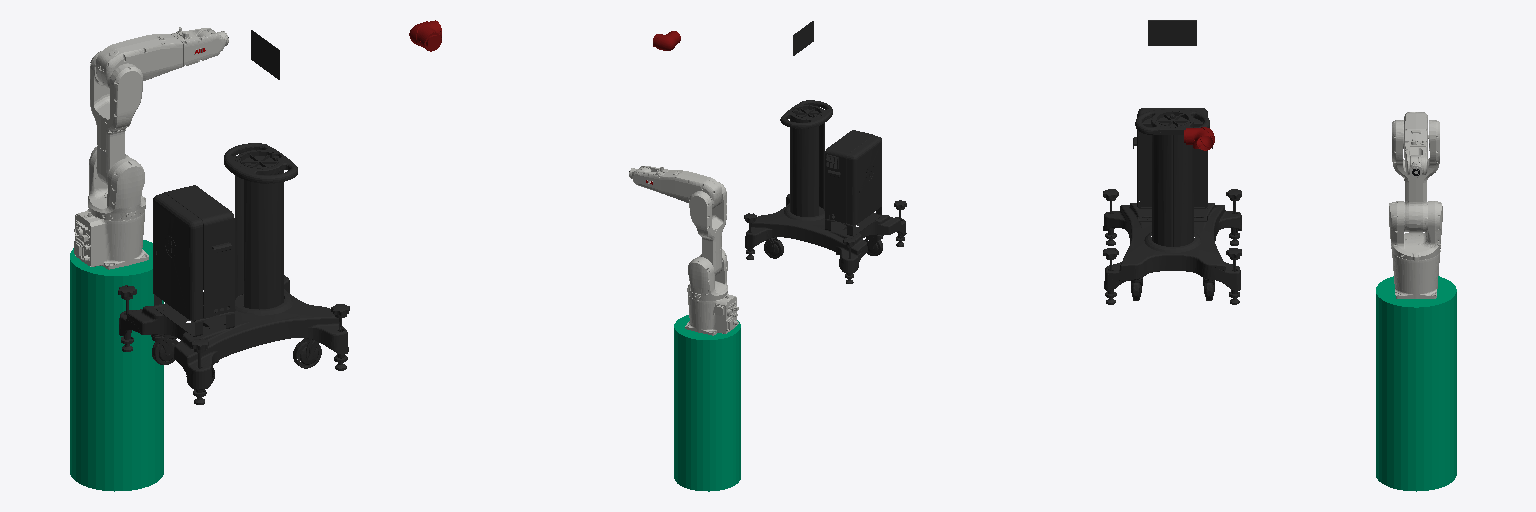
URDF robot description (combined):
<?xml version="1.0" encoding="utf-8"?>
<!-- =================================================================================== -->
<!-- |    This document was autogenerated by xacro from ur5_robot.urdf.xacro           | -->
<!-- |    EDITING THIS FILE BY HAND IS NOT RECOMMENDED                                 | -->
<!-- =================================================================================== -->
<robot name="combined">
  <!--robots pose-->
  <link name="world"/>

  <joint name="sawyer_pose" type="fixed">
    <origin rpy="0 0 0" xyz="0. 0. 0.93"/><!--sawyer base-->
    <parent link="world"/>
    <child link="sawyer_pedestal"/>
  </joint>

  <joint name="abb_pose" type="fixed">
    <parent link="world"/>
    <child link="abb_pedestal"/>
    <origin rpy="0.0 0.0 0.0" xyz="0 1.2 0.0"/><!--abb pedestal-->
  </joint>


  

  <material name="black">
    <color rgba="0 0 0 1"/>
  </material>
  <material name="darkgray">
    <color rgba=".2 .2 .2 1"/>
  </material>
  <material name="darkred">
    <color rgba=".5 .1 .1 1"/>
  </material>
  <material name="sawyer_red">
    <color rgba=".5 .1 .1 1"/>
  </material>
  <material name="sawyer_gray">
    <color rgba="0.75294 0.75294 0.75294 1"/>
  </material>
  <link name="sawyer_pedestal"/>
  <link name="torso">
    <visual>
      <origin rpy="0 0 0" xyz="0 0 0"/>
      <geometry>
        <box size="0.001 0.001 0.001"/>
      </geometry>
      <material name="darkgray">
        <color rgba=".2 .2 .2 1"/>
      </material>
    </visual>
    <inertial>
      <origin rpy="0 0 0" xyz="0.000000 0.000000 0.000000"/>
      <mass value="0.0001"/>
      <inertia ixx="1e-08" ixy="0" ixz="0" iyy="1e-08" iyz="0" izz="1e-08"/>
    </inertial>
  </link>
  <link name="pedestal">
    <visual>
      <origin rpy="1.57079632679 0 -1.57079632679" xyz="0.26 0.345 -0.91488"/>
      <geometry>
        <mesh filename="model://sawyer/meshes/sawyer_pv/pedestal.DAE"/>
      </geometry>
      <material name="darkgray"/>
    </visual>
 <!--    <collision>
      <origin rpy="0 0 0" xyz="-0.02 0 -0.29"/>
      <geometry>
        <cylinder length="0.62" radius="0.18"/>
      </geometry>
    </collision> -->
    <inertial>
      <origin rpy="0 0 0" xyz="0 0 -0.5"/>
      <mass value="60.86397744"/>
      <inertia ixx="5.0635929" ixy="0.00103417" ixz="0.80199628" iyy="6.08689388" iyz="0.00105311" izz="4.96191932"/>
    </inertial>
  </link>
  <link name="controller_box">
   <!--  <collision>
      <origin rpy="0 0 0" xyz="-0.325 0 -0.38"/>
      <geometry>
        <box size="0.22 0.4 0.53"/>
      </geometry>
    </collision> -->
  </link>
  <joint name="controller_box_fixed" type="fixed">
    <origin rpy="0 0 0" xyz="0.0 0.0 0.0"/>
    <parent link="sawyer_pedestal"/>
    <child link="controller_box"/>
  </joint>
  <link name="pedestal_feet">
    <collision>
      <origin rpy="0 0 0" xyz="-0.1225 0 -0.758"/>
      <geometry>
        <box size="0.77 0.7 0.31"/>
      </geometry>
    </collision>
  </link>
  <joint name="pedestal_feet_fixed" type="fixed">
    <origin rpy="0 0 0" xyz="0.0 0.0 0.0"/>
    <parent link="sawyer_pedestal"/>
    <child link="pedestal_feet"/>
  </joint>
  <joint name="pedestal_fixed" type="fixed">
    <origin rpy="0 0 0" xyz="0.0 0.0 0.0"/>
    <parent link="sawyer_pedestal"/>
    <child link="pedestal"/>
  </joint>
  <joint name="right_arm_mount" type="fixed">
    <origin rpy="0 0 0" xyz="0.0 0.0 0.0"/>
    <parent link="sawyer_pedestal"/>
    <child link="right_arm_base_link"/>
  </joint>
  <joint name="torso_t0" type="fixed">
    <origin rpy="0 0 0" xyz="0 0 0"/>
    <parent link="sawyer_pedestal"/>
    <child link="torso"/>
  </joint>
  <link name="right_arm_base_link">
    <inertial>
      <origin rpy="0 0 0" xyz="-0.0006241 -2.8025E-05 0.065404"/>
      <mass value="2.0687"/>
      <inertia ixx="0.0067599" ixy="-4.2024E-05" ixz="-6.1904E-07" iyy="0.0067877" iyz="1.5888E-05" izz="0.0074031"/>
    </inertial>
    <visual>
      <origin rpy="0 0 0" xyz="0 0 0"/>
      <geometry>
        <mesh filename="model://sawyer/meshes/sawyer_pv/base.DAE"/>
      </geometry>
      <material name="sawyer_red"/>
    </visual>
    <!-- <collision>
      <origin rpy="0 0 0" xyz="0 0 0.12"/>
      <geometry>
        <cylinder length="0.24" radius="0.08"/>
      </geometry>
    </collision> -->
  </link>
  <link name="right_l0">
    <inertial>
      <origin rpy="0 0 0" xyz="0.024366 0.010969 0.14363"/>
      <mass value="5.3213"/>
      <inertia ixx="0.053314" ixy="0.0047093" ixz="0.011734" iyy="0.057902" iyz="0.0080179" izz="0.023659"/>
    </inertial>
    <visual>
      <origin rpy="0 0 0" xyz="0 0 0"/>
      <geometry>
        <mesh filename="model://sawyer/meshes/sawyer_mp3/l0.DAE"/>
      </geometry>
      <material name="sawyer_red"/>
    </visual>
    <collision>
      <origin rpy="0 0 0" xyz="0.08 0 0.23"/>
      <geometry>
        <sphere radius="0.07"/>
      </geometry>
    </collision>
  </link>
  <joint name="right_j0" type="revolute">
    <origin rpy="0 0 0" xyz="0 0 0.08"/>
    <parent link="right_arm_base_link"/>
    <child link="right_l0"/>
    <axis xyz="0 0 1"/>
    <limit effort="80.0" lower="-3.0503" upper="3.0503" velocity="1.74"/>
  </joint>
  <link name="head">
    <inertial>
      <origin rpy="0 0 0" xyz="0.0053207 -2.6549E-05 0.1021"/>
      <mass value="1.5795"/>
      <inertia ixx="0.011833" ixy="-4.4669E-06" ixz="4.9425E-05" iyy="0.0082709" iyz="4.2124E-07" izz="0.0049661"/>
    </inertial>
    <visual>
      <origin rpy="0 0 0" xyz="0 0 0"/>
      <geometry>
        <mesh filename="model://sawyer/meshes/sawyer_pv/head.DAE"/>
      </geometry>
      <material name="sawyer_red"/>
    </visual>
    <collision>
      <origin rpy="0 0 0" xyz="0 0 0.08"/>
      <geometry>
        <sphere radius="0.18"/>
      </geometry>
    </collision>
  </link>
  <joint name="head_pan" type="revolute">
    <origin rpy="0 0 0" xyz="0 0 0.2965"/>
    <parent link="right_l0"/>
    <child link="head"/>
    <axis xyz="0 0 1"/>
    <limit effort="8" lower="-5.0952" upper="0.9064" velocity="1.8"/>
  </joint>
  <link name="right_torso_itb">
    <inertial>
      <origin rpy="0 0 0" xyz="0.000000 0.000000 0.000000"/>
      <mass value="0.0001"/>
      <inertia ixx="1e-08" ixy="0" ixz="0" iyy="1e-08" iyz="0" izz="1e-08"/>
    </inertial>
  </link>
  <joint name="right_torso_itb" type="fixed">
    <origin rpy="0 -1.57079632679 0" xyz="-.055 0 .22"/>
    <parent link="right_l0"/>
    <child link="right_torso_itb"/>
    <axis xyz="0 0 1"/>
  </joint>
  <link name="right_l1">
    <inertial>
      <origin rpy="0 0 0" xyz="-0.0030849 -0.026811 0.092521"/>
      <mass value="4.505"/>
      <inertia ixx="0.022398" ixy="-0.00023986" ixz="-0.00029362" iyy="0.014613" iyz="-0.0060875" izz="0.017295"/>
    </inertial>
    <visual>
      <origin rpy="0 0 0" xyz="0 0 0"/>
      <geometry>
        <mesh filename="model://sawyer/meshes/sawyer_mp3/l1.DAE"/>
      </geometry>
      <material name="sawyer_red"/>
    </visual>
    <collision>
      <origin rpy="0 0 0" xyz="0 0 0.1225"/>
      <geometry>
        <sphere radius="0.07"/>
      </geometry>
    </collision>
  </link>
  <joint name="right_j1" type="revolute">
    <origin rpy="-1.57079632679 1.57079632679 0" xyz="0.081 0.05 0.237"/>
    <parent link="right_l0"/>
    <child link="right_l1"/>
    <axis xyz="0 0 1"/>
    <limit effort="80.0" lower="-3.8095" upper="2.2736" velocity="1.328"/>
  </joint>
  <link name="right_l2">
    <inertial>
      <origin rpy="0 0 0" xyz="-0.00016044 -0.014967 0.13582"/>
      <mass value="1.745"/>
      <inertia ixx="0.025506" ixy="4.4101E-06" ixz="1.4955E-05" iyy="0.0253" iyz="-0.0033204" izz="0.0034179"/>
    </inertial>
    <visual>
      <origin rpy="0 0 0" xyz="0 0 0"/>
      <geometry>
        <mesh filename="model://sawyer/meshes/sawyer_pv/l2.DAE"/>
      </geometry>
      <material name="sawyer_red"/>
    </visual>
    <collision>
      <origin rpy="0 0 0" xyz="0 0 0.08"/>
      <geometry>
        <cylinder length="0.34" radius="0.06"/>
      </geometry>
    </collision>
  </link>
  <joint name="right_j2" type="revolute">
    <origin rpy="1.57079632679 0 0" xyz="0 -0.14 0.1425"/>
    <parent link="right_l1"/>
    <child link="right_l2"/>
    <axis xyz="0 0 1"/>
    <limit effort="40.0" lower="-3.0426" upper="3.0426" velocity="1.957"/>
  </joint>
  <link name="right_l3">
    <inertial>
      <origin rpy="0 0 0" xyz="-0.0048135 -0.0281 -0.084154"/>
      <mass value="2.5097"/>
      <inertia ixx="0.01016" ixy="-9.7452E-06" ixz="0.00026624" iyy="0.0065685" iyz="0.0030316" izz="0.0069078"/>
    </inertial>
    <visual>
      <origin rpy="0 0 0" xyz="0 0 0"/>
      <geometry>
        <mesh filename="model://sawyer/meshes/sawyer_pv/l3.DAE"/>
      </geometry>
      <material name="sawyer_red"/>
    </visual>
    <collision>
      <origin rpy="0 0 0" xyz="0 -0.01 -0.12"/>
      <geometry>
        <sphere radius="0.06"/>
      </geometry>
    </collision>
  </link>
  <joint name="right_j3" type="revolute">
    <origin rpy="-1.57079632679 0 0" xyz="0 -0.042 0.26"/>
    <parent link="right_l2"/>
    <child link="right_l3"/>
    <axis xyz="0 0 1"/>
    <limit effort="40.0" lower="-3.0439" upper="3.0439" velocity="1.957"/>
  </joint>
  <link name="right_l4">
    <inertial>
      <origin rpy="0 0 0" xyz="-0.0018844 0.0069001 0.1341"/>
      <mass value="1.1136"/>
      <inertia ixx="0.013557" ixy="1.8109E-05" ixz="0.00013523" iyy="0.013555" iyz="0.0010561" izz="0.0013658"/>
    </inertial>
    <visual>
      <origin rpy="0 0 0" xyz="0 0 0"/>
      <geometry>
        <mesh filename="model://sawyer/meshes/sawyer_pv/l4.DAE"/>
      </geometry>
      <material name="sawyer_red"/>
    </visual>
    <collision>
      <origin rpy="0 0 0" xyz="0 0 0.11"/>
      <geometry>
        <cylinder length="0.30" radius="0.045"/>
      </geometry>
    </collision>
  </link>
  <joint name="right_j4" type="revolute">
    <origin rpy="1.57079632679 0 0" xyz="0 -0.125 -0.1265"/>
    <parent link="right_l3"/>
    <child link="right_l4"/>
    <axis xyz="0 0 1"/>
    <limit effort="9.0" lower="-2.9761" upper="2.9761" velocity="3.485"/>
  </joint>
  <link name="right_arm_itb">
    <inertial>
      <origin rpy="0 0 0" xyz="0.000000 0.000000 0.000000"/>
      <mass value="0.0001"/>
      <inertia ixx="1e-08" ixy="0" ixz="0" iyy="1e-08" iyz="0" izz="1e-08"/>
    </inertial>
  </link>
  <joint name="right_arm_itb" type="fixed">
    <origin rpy="0 -1.57079632679 0" xyz="-.055 0 .075"/>
    <parent link="right_l4"/>
    <child link="right_arm_itb"/>
    <axis xyz="0 0 1"/>
  </joint>
  <link name="right_l5">
    <inertial>
      <origin rpy="0 0 0" xyz="0.0061133 -0.023697 0.076416"/>
      <mass value="1.5625"/>
      <inertia ixx="0.0047328" ixy="0.00011526" ixz="4.6269E-05" iyy="0.0029676" iyz="-0.0011557" izz="0.0031762"/>
    </inertial>
    <visual>
      <origin rpy="0 0 0" xyz="0 0 0"/>
      <geometry>
        <mesh filename="model://sawyer/meshes/sawyer_pv/l5.DAE"/>
      </geometry>
      <material name="sawyer_red"/>
    </visual>
    <collision>
      <origin rpy="0 0 0" xyz="0 0 0.1"/>
      <geometry>
        <sphere radius="0.06"/>
      </geometry>
    </collision>
  </link>
  <joint name="right_j5" type="revolute">
    <origin rpy="-1.57079632679 0 0" xyz="0 0.031 0.275"/>
    <parent link="right_l4"/>
    <child link="right_l5"/>
    <axis xyz="0 0 1"/>
    <limit effort="9.0" lower="-2.9761" upper="2.9761" velocity="3.485"/>
  </joint>
  <link name="right_hand_camera"/>
  <joint name="right_hand_camera" type="fixed">
    <origin rpy="0 1.57079632679 0" xyz="0.039552 -0.033 0.0695"/>
    <parent link="right_l5"/>
    <child link="right_hand_camera"/>
    <axis xyz="0 0 0"/>
  </joint>
  <link name="right_wrist"/>
  <joint name="right_wrist" type="fixed">
    <origin rpy="1.57079632679 0 0" xyz="0 0 0.10541"/>
    <parent link="right_l5"/>
    <child link="right_wrist"/>
    <axis xyz="0 0 0"/>
  </joint>
  <link name="right_l6">
    <inertial>
      <origin rpy="0 0 0" xyz="-8.0726E-06 0.0085838 -0.0049566"/>
      <mass value="0.3292"/>
      <inertia ixx="0.00031105" ixy="1.4771E-06" ixz="-3.7074E-07" iyy="0.00021549" iyz="-8.4533E-06" izz="0.00035976"/>
    </inertial>
    <visual>
      <origin rpy="0 0 0" xyz="0 0 0"/>
      <geometry>
        <mesh filename="model://sawyer/meshes/sawyer_mp1/l6.DAE"/>
      </geometry>
      <material name="sawyer_red"/>
    </visual>
    <collision>
      <origin rpy="0 0 0" xyz="0 0.015 -0.01"/>
      <geometry>
        <cylinder length="0.05" radius="0.055"/>
      </geometry>
    </collision>
  </link>
  <joint name="right_j6" type="revolute">
    <origin rpy="-1.57079632679 -0.17453 3.1416" xyz="0 -0.11 0.1053"/>
    <parent link="right_l5"/>
    <child link="right_l6"/>
    <axis xyz="0 0 1"/>
    <limit effort="9.0" lower="-4.7124" upper="4.7124" velocity="4.545"/>
  </joint>
  <link name="right_hand">
    <collision>
      <origin rpy="0 0 0" xyz="0 0 0.02"/>
      <geometry>
        <cylinder length="0.03" radius="0.035"/>
      </geometry>
    </collision>
    <inertial>
      <origin rpy="0 0 0" xyz="1.0E-08 1.0E-08 1.0E-08"/>
      <mass value="1.0E-08"/>
      <inertia ixx="1.0E-08" ixy="1.0E-08" ixz="1.0E-08" iyy="1.0E-08" iyz="1.0E-08" izz="1.0E-08"/>
    </inertial>
  </link>
  <joint name="right_hand" type="fixed">
    <origin rpy="0 0 1.570796" xyz="0 0 0.0245"/>
    <axis xyz="0 0 1"/>
    <parent link="right_l6"/>
    <child link="right_hand"/>
  </joint>
  <link name="right_l1_2">
    <inertial>
      <origin rpy="0 0 0" xyz="1.0E-08 1.0E-08 1.0E-08"/>
      <mass value="1.0E-08"/>
      <inertia ixx="1.0E-08" ixy="1.0E-08" ixz="1.0E-08" iyy="1.0E-08" iyz="1.0E-08" izz="1.0E-08"/>
    </inertial>
    <collision>
      <origin rpy="0 0 0" xyz="0 0 0.035"/>
      <geometry>
        <cylinder length="0.14" radius="0.07"/>
      </geometry>
    </collision>
  </link>
  <joint name="right_j1_2" type="fixed">
    <origin rpy="0 0 0" xyz="0 0 0"/>
    <parent link="right_l1"/>
    <child link="right_l1_2"/>
    <axis xyz="0 0 1"/>
  </joint>
  <link name="right_l2_2">
    <inertial>
      <origin rpy="0 0 0" xyz="1.0E-08 1.0E-08 1.0E-08"/>
      <mass value="1.0E-08"/>
      <inertia ixx="1.0E-08" ixy="1.0E-08" ixz="1.0E-08" iyy="1.0E-08" iyz="1.0E-08" izz="1.0E-08"/>
    </inertial>
    <collision>
      <origin rpy="0 0 0" xyz="0 0 0.26"/>
      <geometry>
        <sphere radius="0.06"/>
      </geometry>
    </collision>
  </link>
  <joint name="right_j2_2" type="fixed">
    <origin rpy="0 0 0" xyz="0 0 0"/>
    <parent link="right_l2"/>
    <child link="right_l2_2"/>
    <axis xyz="0 0 1"/>
  </joint>
  <link name="right_l4_2">
    <inertial>
      <origin rpy="0 0 0" xyz="1.0E-08 1.0E-08 1.0E-08"/>
      <mass value="1.0E-08"/>
      <inertia ixx="1.0E-08" ixy="1.0E-08" ixz="1.0E-08" iyy="1.0E-08" iyz="1.0E-08" izz="1.0E-08"/>
    </inertial>
    <collision>
      <origin rpy="0 0 0" xyz="0 0.01 0.26"/>
      <geometry>
        <sphere radius="0.06"/>
      </geometry>
    </collision>
  </link>
  <joint name="right_j4_2" type="fixed">
    <origin rpy="0 0 0" xyz="0 0 0"/>
    <parent link="right_l4"/>
    <child link="right_l4_2"/>
    <axis xyz="0 0 1"/>
  </joint>
  <link name="screen">
    <visual>
      <origin rpy="0 0 0" xyz="0 0 0"/>
      <geometry>
        <box size="0.24 0.14 0.002"/>
      </geometry>
      <material name="darkgray"/>
    </visual>
    <collision>
      <origin rpy="0 0 0" xyz="0 0 0"/>
      <geometry>
        <sphere radius="0.001"/>
      </geometry>
    </collision>
    <inertial>
      <origin rpy="0 0 0" xyz="0 0 0"/>
      <mass value="0.0001"/>
      <inertia ixx="1e-08" ixy="0" ixz="0" iyy="1e-08" iyz="0" izz="1e-08"/>
    </inertial>
  </link>
  <joint name="display_joint" type="fixed">
    <origin rpy="1.57079632679 0 1.57079632679" xyz="0.03 0.0 0.105"/>
    <parent link="head"/>
    <child link="screen"/>
  </joint>
  <link name="head_camera"/>
  <joint name="head_camera" type="fixed">
    <origin rpy="-2.1293 0 -1.57079632679" xyz="0.0228027 0 0.216572"/>
    <parent link="head"/>
    <child link="head_camera"/>
    <axis xyz="0 0 0"/>
  </joint>

  <!--ABB part-->
  <joint name="ABB1200_joint_1" type="revolute">
    <parent link="ABB1200_base_link"/>
    <child link="ABB1200_link_1"/>
    <origin rpy="0 0 0" xyz="0     0     0.3991"/>
    <axis xyz="0 0 1"/>
    <limit effort="1000.0" lower="-2.967" upper="2.967" velocity="5.027"/>
  </joint>
  <joint name="ABB1200_joint_2" type="revolute">
    <parent link="ABB1200_link_1"/>
    <child link="ABB1200_link_2"/>
    <origin rpy="0 0 0" xyz="0 0 0"/>
    <axis xyz="0 1 0"/>
    <limit effort="1000.0" lower="-1.745" upper="2.269" velocity="4.189"/>
  </joint>
  <joint name="ABB1200_joint_3" type="revolute">
    <parent link="ABB1200_link_2"/>
    <child link="ABB1200_link_3"/>
    <origin rpy="0 0 0" xyz="0    0    0.448"/>
    <axis xyz="0 1 0"/>
    <limit effort="1000.0" lower="-3.491" upper="1.222" velocity="5.236"/>
  </joint>
  <joint name="ABB1200_joint_4" type="revolute">
    <parent link="ABB1200_link_3"/>
    <child link="ABB1200_link_4"/>
    <origin rpy="0 0 0" xyz="0    0    0.042"/>
    <axis xyz="1 0 0"/>
    <limit effort="1000.0" lower="-4.712" upper="4.712" velocity="6.981"/>
  </joint>
  <joint name="ABB1200_joint_5" type="revolute">
    <parent link="ABB1200_link_4"/>
    <child link="ABB1200_link_5"/>
    <origin rpy="0 0 0" xyz="0.451 0    0"/>
    <axis xyz="0 1 0"/>
    <limit effort="1000.0" lower="-2.269" upper="2.269" velocity="7.069"/>
  </joint>
  <joint name="ABB1200_joint_6" type="revolute">
    <parent link="ABB1200_link_5"/>
    <child link="ABB1200_link_6"/>
    <origin rpy="0 0 0" xyz="0.082 0    0"/>
    <axis xyz="1 0 0"/>
    <limit effort="1000.0" lower="-6.283" upper="6.283" velocity="10.472"/>
  </joint>
  <joint name="abb_pedestal_JOINT_0" type="fixed">
    <parent link="abb_pedestal"/>
    <child link="ABB1200_base_link"/>
    <origin rpy="0 0 0" xyz="0 0 0"/>
    <axis xyz="0 0 0"/>
    <limit effort="0" lower="0" upper="0" velocity="0"/>
  </joint>
  <link name="ABB1200_base_link">
    <inertial>
      <mass value="13.7742"/>
      <origin rpy="0 0 0" xyz="-0.02898  0.00059  0.11273"/>
      <inertia ixx="0.101998" ixy="0.000495482" ixz="0.000311158" iyy="0.13969" iyz="-0.000245375" izz="0.130433"/>
    </inertial>
    <!-- <collision name="ABB1200_base_link_fixed_joint_lump__collision_collision">
      <origin rpy="0 0 0" xyz="0 0 0"/>
      <geometry>
        <mesh filename="model://abb/meshes/collision/base_link.stl" scale="1 1 1"/>
      </geometry>
    </collision> -->
    <visual name="ABB1200_base_link_fixed_joint_lump__visual_visual">
      <origin rpy="0 0 0" xyz="0 0 0"/>
      <geometry>
        <mesh filename="model://abb/meshes/visual/base_link.dae" scale="1 1 1"/>
      </geometry>
    </visual>
  </link>
  <link name="abb_pedestal">
    <inertial>
      <mass value="1"/>
      <origin rpy="0 0 0" xyz="0 0 0"/>
      <inertia ixx="0.145833" ixy="0" ixz="0" iyy="0.145833" iyz="0" izz="0.125"/>
    </inertial>
    <visual name="ABB1200_visual">
      <origin rpy="0 0 0" xyz="0   0  -0.5"/>
      <geometry>
        <cylinder length="1.0" radius="0.2"/>
      </geometry>
    </visual>
  </link>
  <link name="ABB1200_link_1">
    <inertial>
      <mass value="11.8419"/>
      <origin rpy="0 0 0" xyz="0.00087 -0.00063 -0.06288"/>
      <inertia ixx="0.11194" ixy="-4.54988e-05" ixz="0.000280961" iyy="0.0915159" iyz="-0.000109905" izz="0.0876456"/>
    </inertial>
    <collision name="ABB1200_link_1_fixed_joint_lump__collision_collision">
      <origin rpy="0 0 0" xyz="0 0 0"/>
      <geometry>
        <mesh filename="model://abb/meshes/collision/link_1.stl" scale="1 1 1"/>
      </geometry>
    </collision>
    <visual name="ABB1200_link_1_fixed_joint_lump__visual_visual">
      <origin rpy="0 0 0" xyz="0 0 0"/>
      <geometry>
        <mesh filename="model://abb/meshes/visual/link_1.dae" scale="1 1 1"/>
      </geometry>
    </visual>
  </link>
  <link name="ABB1200_link_2">
    <inertial>
      <mass value="17.5394"/>
      <origin rpy="0 0 0" xyz="-0.00092 -0.00049  0.25005"/>
      <inertia ixx="0.493558" ixy="1.32136e-05" ixz="0.000209024" iyy="0.462939" iyz="-0.00179901" izz="0.0894214"/>
    </inertial>
    <collision name="ABB1200_link_2_fixed_joint_lump__collision_collision">
      <origin rpy="0 0 0" xyz="0 0 0"/>
      <geometry>
        <mesh filename="model://abb/meshes/collision/link_2.stl" scale="1 1 1"/>
      </geometry>
    </collision>
    <visual name="ABB1200_link_2_fixed_joint_lump__visual_visual">
      <origin rpy="0 0 0" xyz="0 0 0"/>
      <geometry>
        <mesh filename="model://abb/meshes/visual/link_2.dae" scale="1 1 1"/>
      </geometry>
    </visual>
  </link>
  <link name="ABB1200_link_3">
    <inertial>
      <mass value="7.46365"/>
      <origin rpy="0 0 0" xyz="0.09958 0.00114 0.03233"/>
      <inertia ixx="0.0252424" ixy="0.000142737" ixz="-0.00565542" iyy="0.0906438" iyz="0.000142213" izz="0.0825079"/>
    </inertial>
    <collision name="ABB1200_link_3_fixed_joint_lump__collision_collision">
      <origin rpy="0 0 0" xyz="0 0 0"/>
      <geometry>
        <mesh filename="model://abb/meshes/collision/link_3.stl" scale="1 1 1"/>
      </geometry>
    </collision>
    <visual name="ABB1200_link_3_fixed_joint_lump__visual_visual">
      <origin rpy="0 0 0" xyz="0 0 0"/>
      <geometry>
        <mesh filename="model://abb/meshes/visual/link_3.dae" scale="1 1 1"/>
      </geometry>
    </visual>
  </link>
  <link name="ABB1200_link_4">
    <inertial>
      <mass value="2.74436"/>
      <origin rpy="0 0 0" xyz="0.38167 0.00126 0.00516"/>
      <inertia ixx="0.00573099" ixy="-0.000131119" ixz="0.000380232" iyy="0.0118352" iyz="-2.26565e-05" izz="0.0114428"/>
    </inertial>
    <collision name="ABB1200_link_4_fixed_joint_lump__collision_collision">
      <origin rpy="0 0 0" xyz="0 0 0"/>
      <geometry>
        <mesh filename="model://abb/meshes/collision/link_4.stl" scale="1 1 1"/>
      </geometry>
    </collision>
    <visual name="ABB1200_link_4_fixed_joint_lump__visual_visual">
      <origin rpy="0 0 0" xyz="0 0 0"/>
      <geometry>
        <mesh filename="model://abb/meshes/visual/link_4.dae" scale="1 1 1"/>
      </geometry>
    </visual>
  </link>
  <link name="ABB1200_link_5">
    <inertial>
      <mass value="0.62953"/>
      <origin rpy="0 0 0" xyz="0.01119 -0.00105  0.0001"/>
      <inertia ixx="0.000502815" ixy="-1.03173e-05" ixz="-8.74347e-08" iyy="0.00108856" iyz="2.07657e-07" izz="0.000918873"/>
    </inertial>
    <collision name="ABB1200_link_5_fixed_joint_lump__collision_collision">
      <origin rpy="0 0 0" xyz="0 0 0"/>
      <geometry>
        <mesh filename="model://abb/meshes/collision/link_5.stl" scale="1 1 1"/>
      </geometry>
    </collision>
    <visual name="ABB1200_link_5_fixed_joint_lump__visual_visual">
      <origin rpy="0 0 0" xyz="0 0 0"/>
      <geometry>
        <mesh filename="model://abb/meshes/visual/link_5.dae" scale="1 1 1"/>
      </geometry>
    </visual>
  </link>
  <link name="ABB1200_link_6">
    <inertial>
      <mass value="0.137"/>
      <origin rpy="0 0 0" xyz="-0.00706 -0.00017  0"/>
      <inertia ixx="0.001" ixy="0" ixz="0" iyy="0.001" iyz="0" izz="0.001"/>
    </inertial>
    <collision name="ABB1200_link_6_fixed_joint_lump__collision_collision">
      <origin rpy="0 0 0" xyz="0 0 0"/>
      <geometry>
        <mesh filename="model://abb/meshes/collision/link_6.stl" scale="1 1 1"/>
      </geometry>
    </collision>
    <visual name="ABB1200_link_6_fixed_joint_lump__visual_visual">
      <origin rpy="0 0 0" xyz="0 0 0"/>
      <geometry>
        <mesh filename="model://abb/meshes/visual/link_6.dae" scale="1 1 1"/>
      </geometry>
    </visual>
  </link>


</robot>

--- Render facts (derived) ---
The picture shows the robot from 3 angles, left to right: view 1: azimuth 30°, elevation 25°; view 2: azimuth 150°, elevation 25°; view 3: azimuth 270°, elevation 25°; orthographic projection.
Model combined with 33 links and 32 joints (14 revolute, 18 fixed), rooted at world, posed every joint at zero.
Visible links, largest first — view 1: pedestal, abb_pedestal, ABB1200_link_2, ABB1200_base_link, ABB1200_link_1, ABB1200_link_3, ABB1200_link_4, screen, right_l5; view 2: pedestal, abb_pedestal, ABB1200_link_2, ABB1200_base_link, ABB1200_link_1, ABB1200_link_3, ABB1200_link_4; view 3: pedestal, abb_pedestal, ABB1200_link_2, ABB1200_link_1, ABB1200_base_link, screen, ABB1200_link_3, right_l5, ABB1200_link_4.
Link boxes in pixels (x1,y1,x2,y2): pedestal: (118, 143, 349, 404); abb_pedestal: (70, 240, 163, 491); ABB1200_link_2: (90, 51, 142, 185); ABB1200_base_link: (74, 209, 148, 269); ABB1200_link_1: (88, 147, 145, 220); ABB1200_link_3: (96, 34, 182, 89); ABB1200_link_4: (171, 27, 224, 66); screen: (251, 30, 279, 79); right_l5: (409, 20, 441, 51); pedestal: (744, 100, 906, 283); abb_pedestal: (674, 315, 740, 491); ABB1200_link_2: (689, 182, 726, 275); ABB1200_base_link: (685, 293, 738, 335); ABB1200_link_1: (687, 249, 727, 300); ABB1200_link_3: (661, 170, 721, 208); ABB1200_link_4: (632, 166, 668, 192); pedestal: (1103, 108, 1241, 304); abb_pedestal: (1376, 276, 1456, 491); ABB1200_link_2: (1392, 120, 1439, 232); ABB1200_link_1: (1389, 201, 1442, 261); ABB1200_base_link: (1392, 250, 1440, 298); screen: (1148, 20, 1196, 45); ABB1200_link_3: (1404, 112, 1428, 157); right_l5: (1184, 127, 1214, 150); ABB1200_link_4: (1405, 139, 1427, 175).
Size in the robot's own frame: 1.46 by 1.74 by 2.48 metres.
Meshes: 17 distinct files referenced, 9 mesh visuals loaded (9 Collada DAE); not drawn: 8 (reference not matched to a file when rendering).